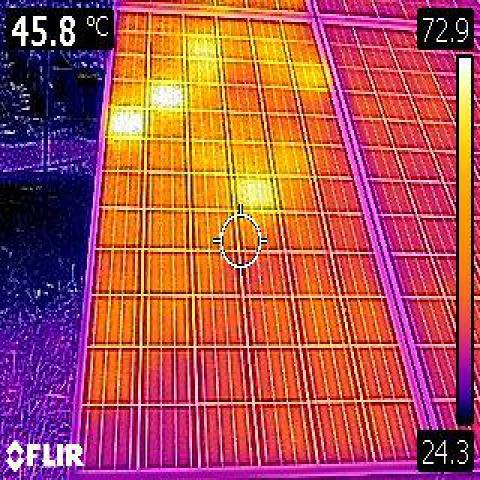fault: (107, 101, 147, 140), (234, 176, 275, 209), (147, 82, 182, 116)
